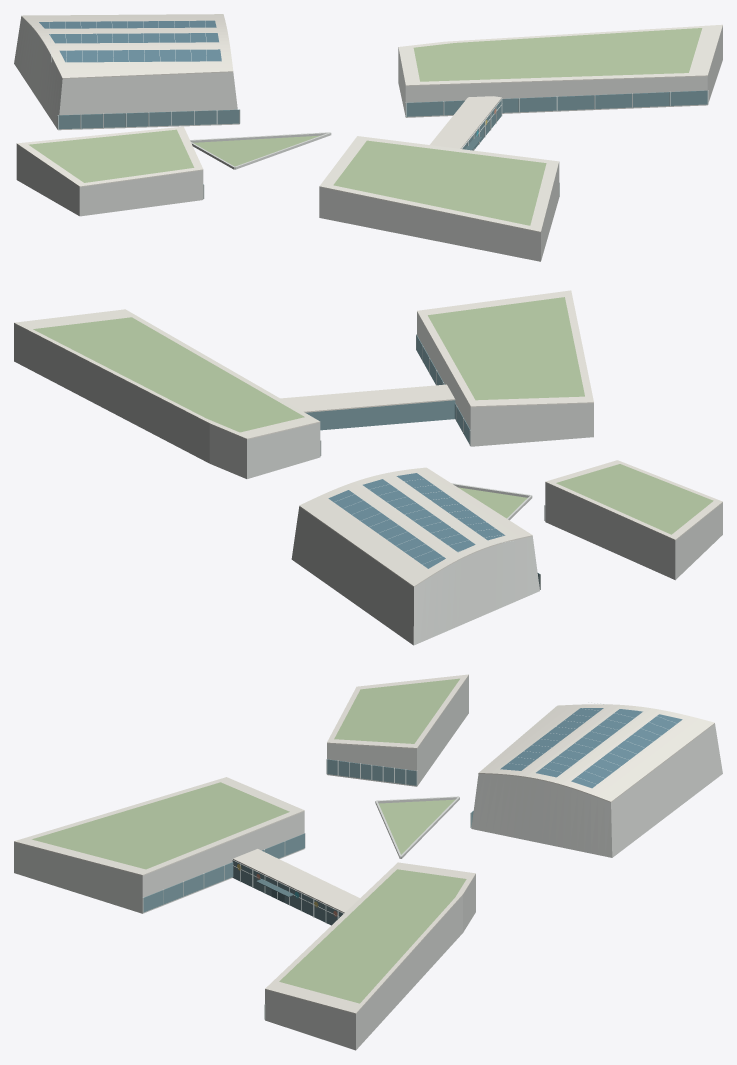
File: ecotown.glb
The picture shows the model from 3 angles, top to bottom: view 1: azimuth 30°, elevation 25°; view 2: azimuth 150°, elevation 25°; view 3: azimuth 270°, elevation 25°; orthographic projection. The views are drawn at different scales.
Visible parts, largest first — view 1: Ecotown; view 2: Ecotown; view 3: Ecotown.
Boxes of the visible parts, box(x1,y1,x2,y2) form: Ecotown: box(14, 14, 722, 261); Ecotown: box(14, 290, 722, 645); Ecotown: box(14, 674, 722, 1050).
Size of the model in its own units: 164 by 13.86 by 146.
